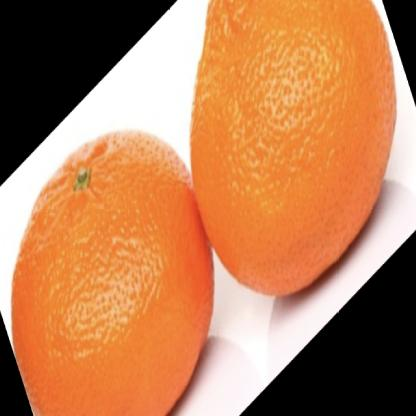fresh: (12, 1, 398, 416)
